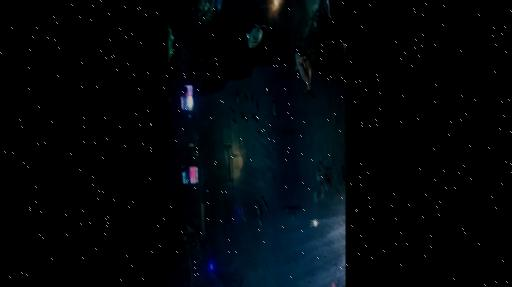Fish: (295, 52, 313, 96), (246, 24, 265, 47), (314, 181, 323, 202), (325, 167, 332, 189), (316, 161, 323, 180), (255, 200, 261, 216), (285, 206, 300, 212), (335, 183, 341, 198), (217, 0, 223, 14), (341, 166, 345, 185), (262, 195, 267, 210), (326, 0, 330, 17), (253, 114, 258, 123), (273, 100, 276, 115), (256, 129, 261, 137), (229, 106, 235, 112), (282, 129, 293, 132), (291, 211, 295, 219), (342, 43, 345, 53), (258, 216, 261, 226), (242, 214, 246, 221), (236, 91, 238, 102), (244, 93, 247, 100), (244, 114, 247, 121), (256, 100, 258, 110), (331, 282, 335, 286), (251, 93, 253, 101), (233, 118, 236, 123), (241, 111, 243, 118)
